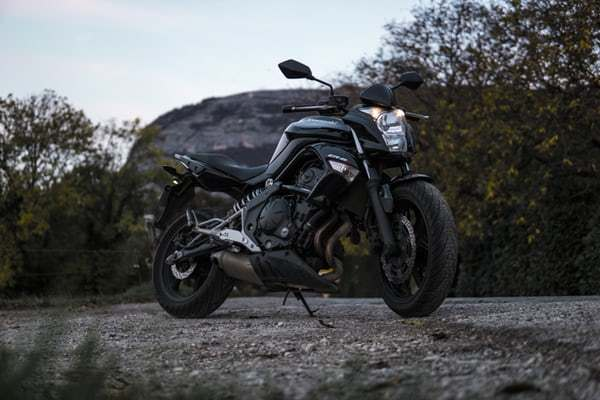3_label: (121, 50, 498, 318)
